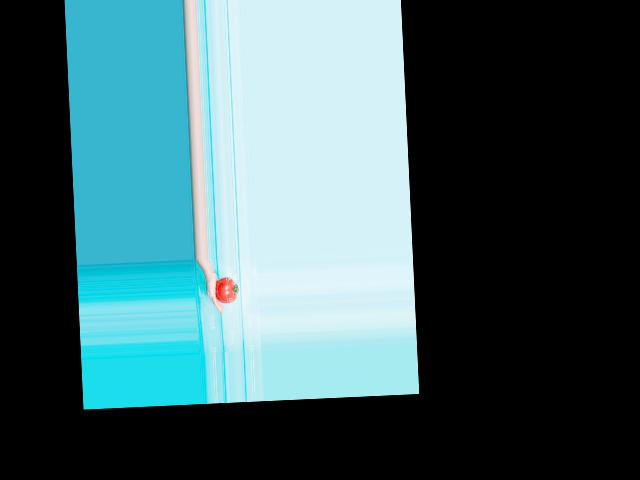tomato: (214, 277, 238, 304)
